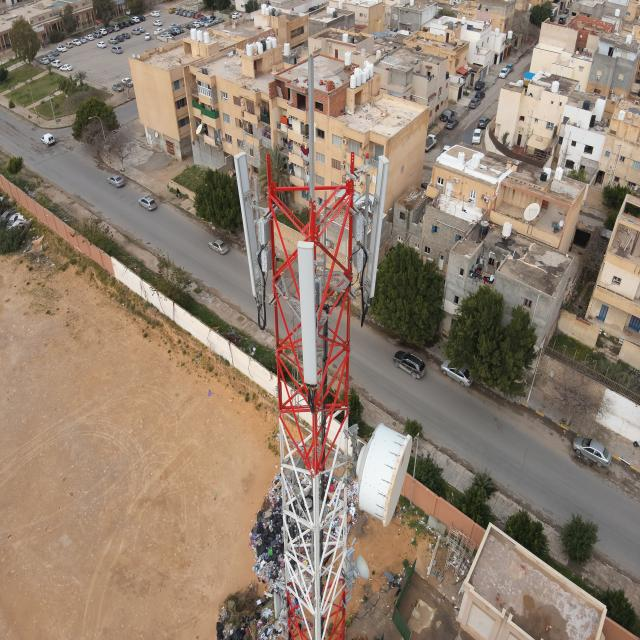Ground Based: (225, 38, 416, 640)
